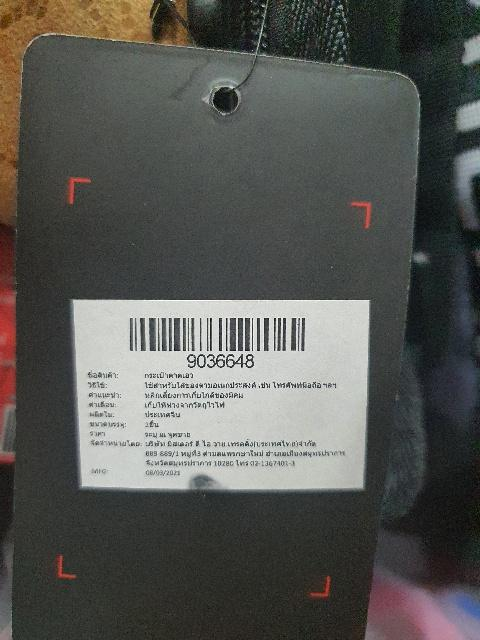Barcode: (117, 308, 324, 372)
